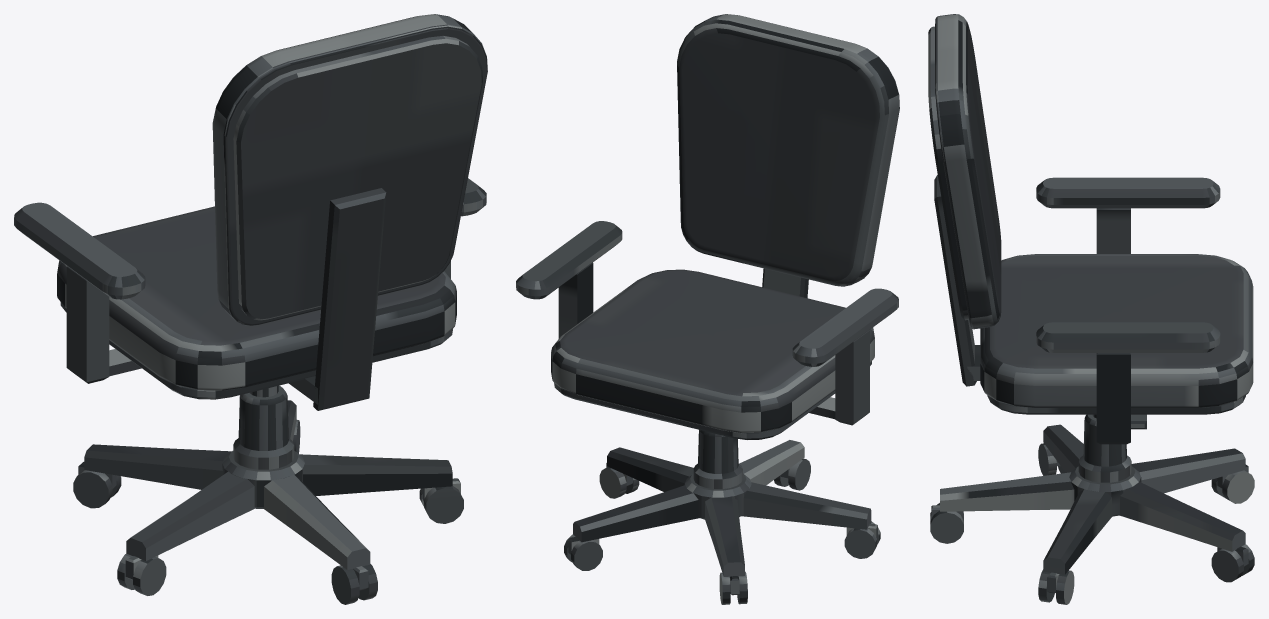
The model's file is modern_office_chair.obj.
3 renders of one model, left to right at view 1: azimuth 30°, elevation 25°; view 2: azimuth 150°, elevation 25°; view 3: azimuth 270°, elevation 25°, orthographic. The views are drawn at different scales.
Parts seen in each view (by area): view 1: chair_back_shell, chair_seat_cushion, chair_base_legs, chair_back_cushion, chair_back_spine, chair_arm_pads, chair_arm_frames, chair_lift_shroud, chair_seat_pan, chair_hub, chair_caster_wheels_4, chair_caster_wheels_3 (+2 smaller); view 2: chair_back_cushion, chair_seat_cushion, chair_base_legs, chair_arm_pads, chair_arm_frames, chair_lift_shroud, chair_seat_pan, chair_hub, chair_caster_wheels_2, chair_back_spine, chair_caster_wheels_4, chair_caster_wheels_1 (+2 smaller); view 3: chair_seat_cushion, chair_base_legs, chair_back_cushion, chair_arm_pads, chair_arm_frames, chair_back_spine, chair_back_shell, chair_lift_shroud, chair_seat_pan, chair_hub, chair_caster_wheels_2, chair_caster_wheels_3 (+3 smaller).
Part boxes in pixels (left/top/right/bottom): chair_back_shell: left=233, top=36, right=482, bottom=320; chair_seat_cushion: left=57, top=206, right=456, bottom=390; chair_base_legs: left=84, top=400, right=452, bottom=569; chair_back_cushion: left=212, top=14, right=487, bottom=325; chair_back_spine: left=289, top=188, right=386, bottom=410; chair_arm_pads: left=14, top=178, right=486, bottom=299; chair_arm_frames: left=66, top=261, right=450, bottom=383; chair_lift_shroud: left=233, top=385, right=294, bottom=469; chair_seat_pan: left=60, top=302, right=452, bottom=399; chair_hub: left=222, top=451, right=304, bottom=508; chair_caster_wheels_4: left=117, top=553, right=166, bottom=595; chair_caster_wheels_3: left=73, top=470, right=121, bottom=508; chair_back_cushion: left=677, top=14, right=899, bottom=286; chair_seat_cushion: left=551, top=269, right=874, bottom=433; chair_base_legs: left=573, top=440, right=871, bottom=576; chair_arm_pads: left=516, top=221, right=898, bottom=366; chair_arm_frames: left=558, top=262, right=869, bottom=425; chair_lift_shroud: left=693, top=430, right=742, bottom=488; chair_seat_pan: left=554, top=361, right=871, bottom=439; chair_hub: left=684, top=473, right=751, bottom=519; chair_caster_wheels_2: left=564, top=534, right=602, bottom=570; chair_back_spine: left=762, top=268, right=808, bottom=298; chair_caster_wheels_4: left=844, top=521, right=880, bottom=558; chair_caster_wheels_1: left=599, top=467, right=639, bottom=498; chair_seat_cushion: left=980, top=254, right=1253, bottom=407; chair_base_legs: left=940, top=424, right=1245, bottom=574; chair_back_cushion: left=935, top=14, right=1001, bottom=329; chair_arm_pads: left=1036, top=177, right=1220, bottom=352; chair_arm_frames: left=1096, top=208, right=1130, bottom=444; chair_back_spine: left=934, top=175, right=980, bottom=386; chair_back_shell: left=928, top=26, right=968, bottom=320; chair_lift_shroud: left=1078, top=414, right=1131, bottom=482; chair_seat_pan: left=987, top=395, right=1245, bottom=414; chair_hub: left=1069, top=466, right=1141, bottom=516; chair_caster_wheels_2: left=1211, top=544, right=1254, bottom=582; chair_caster_wheels_3: left=1211, top=470, right=1254, bottom=503.
Size of the model in its own units: 0.8312 by 1.17 by 0.7096.
